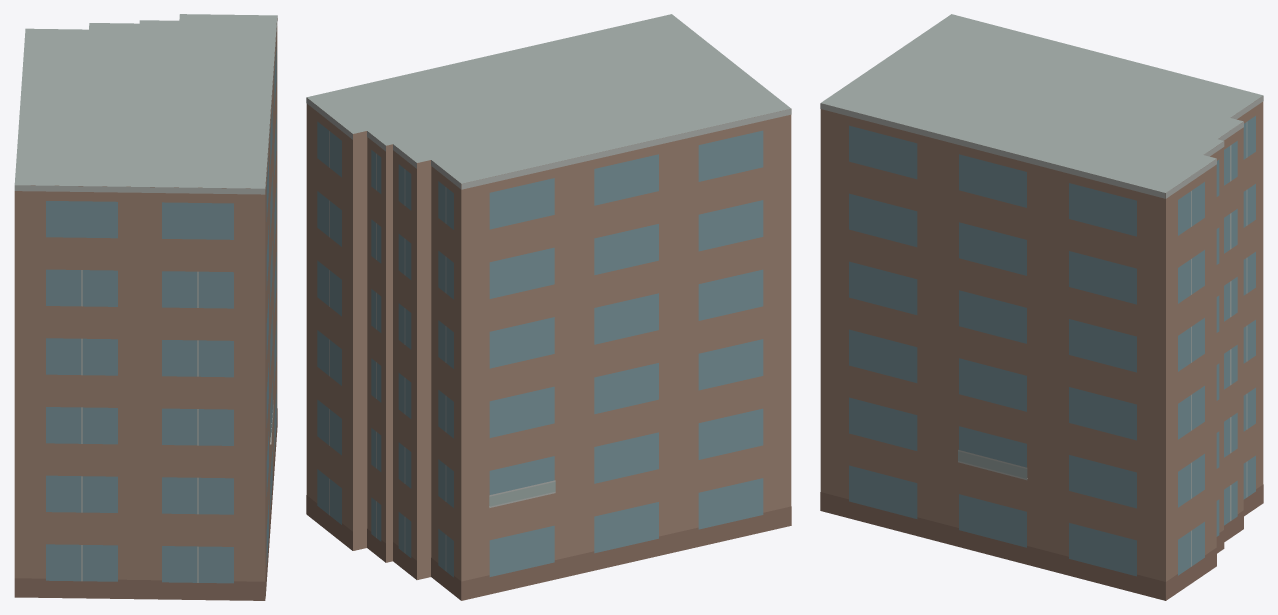
Rendered from survey-upis-32669633.glb.
3 renders of one model, left to right at view 1: azimuth 30°, elevation 25°; view 2: azimuth 150°, elevation 25°; view 3: azimuth 270°, elevation 25°, orthographic. The views are drawn at different scales.
Visible parts, largest first — view 1: survey-upis-32669633.tmp; view 2: survey-upis-32669633.tmp; view 3: survey-upis-32669633.tmp.
Part boxes in pixels (box(x1,y1,x2,y2)): survey-upis-32669633.tmp: box(14, 14, 277, 600); survey-upis-32669633.tmp: box(306, 14, 791, 600); survey-upis-32669633.tmp: box(820, 14, 1263, 600).
Size of the model in its own units: 16.11 by 17.1 by 16.85.
